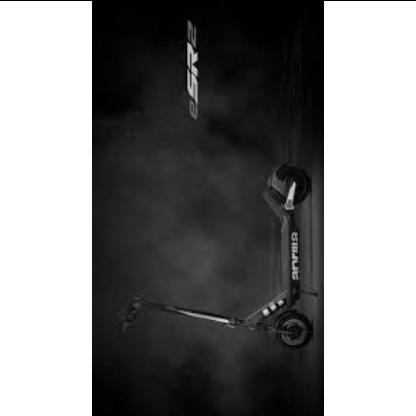bike: (116, 163, 316, 354)
